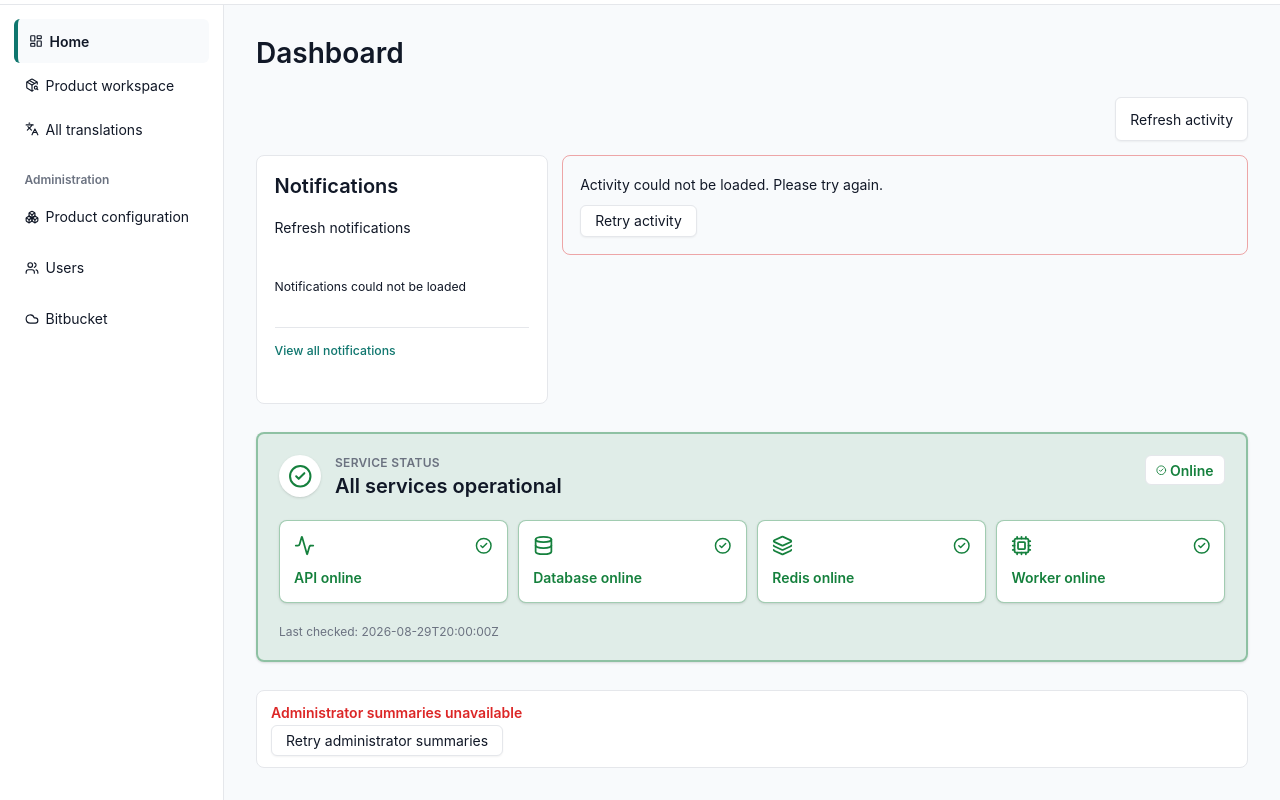
Test: role-aware Workspace overview › keeps identity and bounded recovery when administrator summaries fail
The width and height of the screenshot is (1280, 800).
(page scrolled)
Check: the heading "Dashboard" is shown, box x1=256 y1=36 x2=404 y2=70
Check: the message "Administrator summaries unavailable" is shown, box x1=271 y1=704 x2=522 y2=721
Click the button "Retry administrator summaries" at [387, 740], box x1=271 y1=725 x2=503 y2=756
(page scrolled)
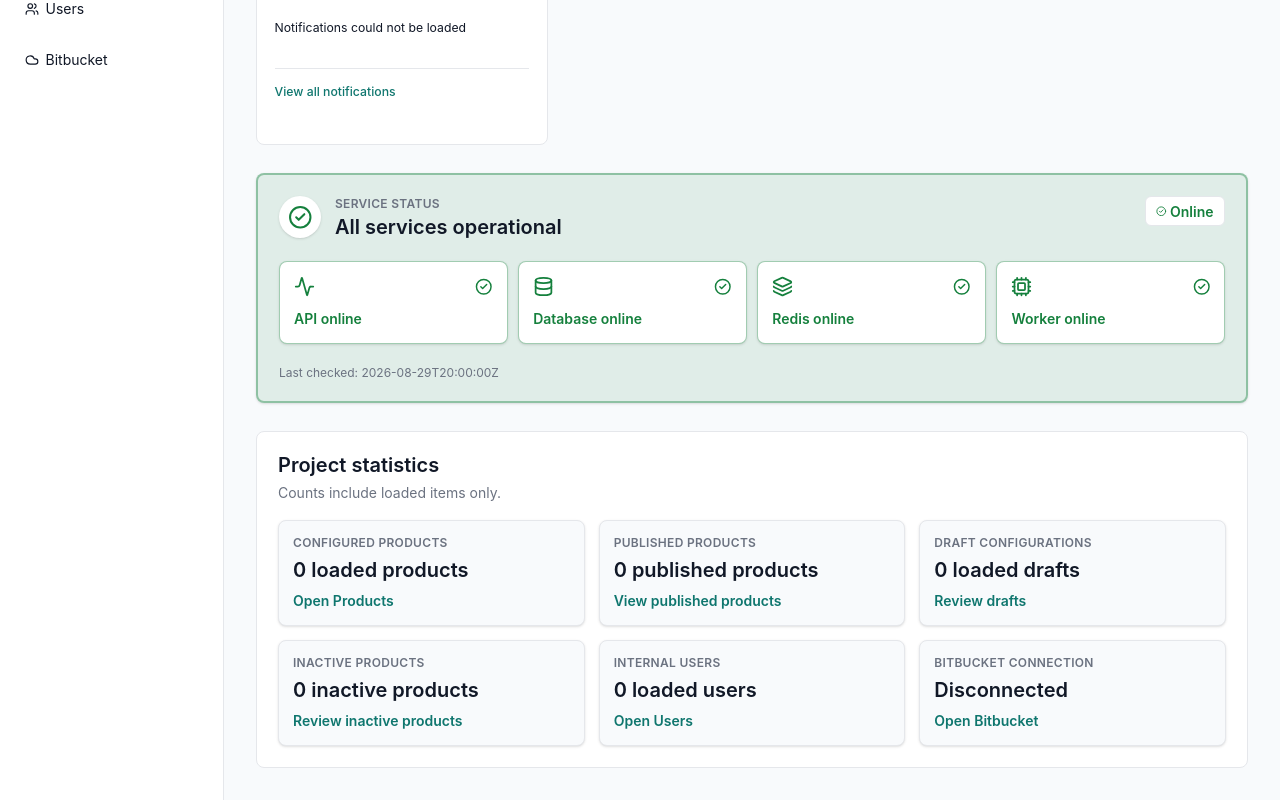
Check: the text "0 loaded products" is shown, box x1=293 y1=558 x2=469 y2=582
Check: the text "0 loaded drafts" is shown, box x1=934 y1=558 x2=1080 y2=582
Check: the text "0 loaded users" is shown, box x1=614 y1=678 x2=757 y2=702
